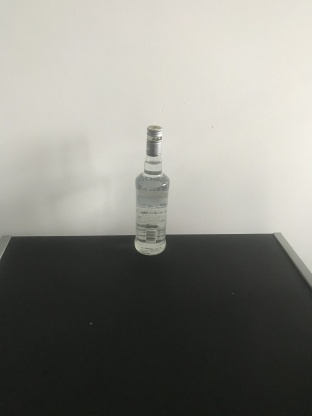nakretka: (144, 124, 163, 156)
